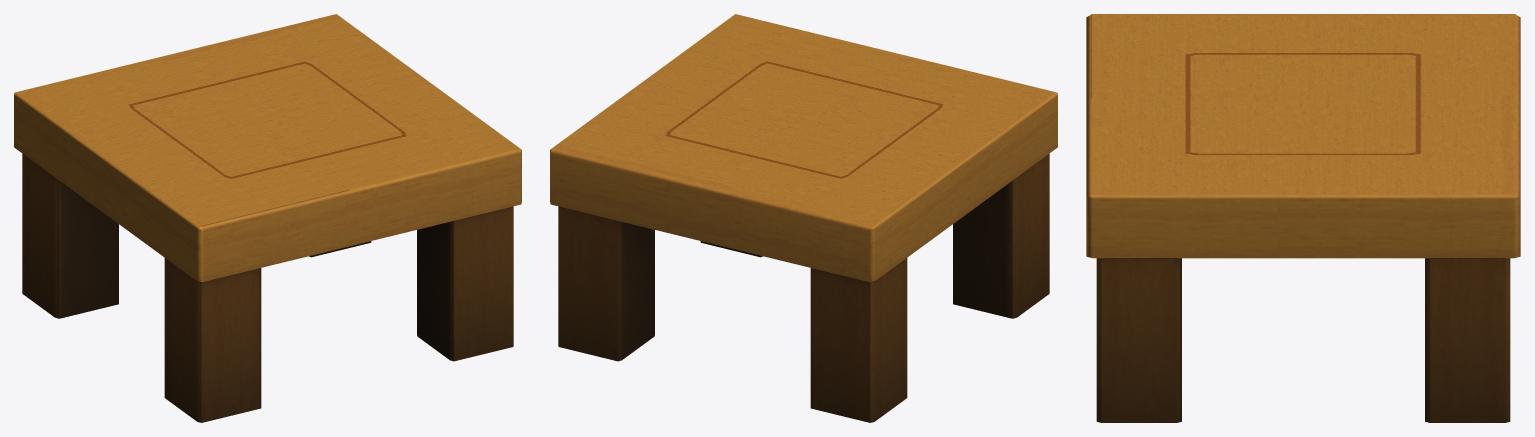
File: Table.fbx
3 renders of one model, left to right at view 1: azimuth 30°, elevation 25°; view 2: azimuth 150°, elevation 25°; view 3: azimuth 270°, elevation 25°, orthographic. The views are drawn at different scales.
Parts seen in each view (by area): view 1: Table; view 2: Table; view 3: Table.
Boxes of the visible parts, x1,y1,x2,y2 form: Table: (14,14,521,422); Table: (550,14,1057,422); Table: (1086,14,1520,422).
Size of the model in its own units: 196 by 115 by 196.
